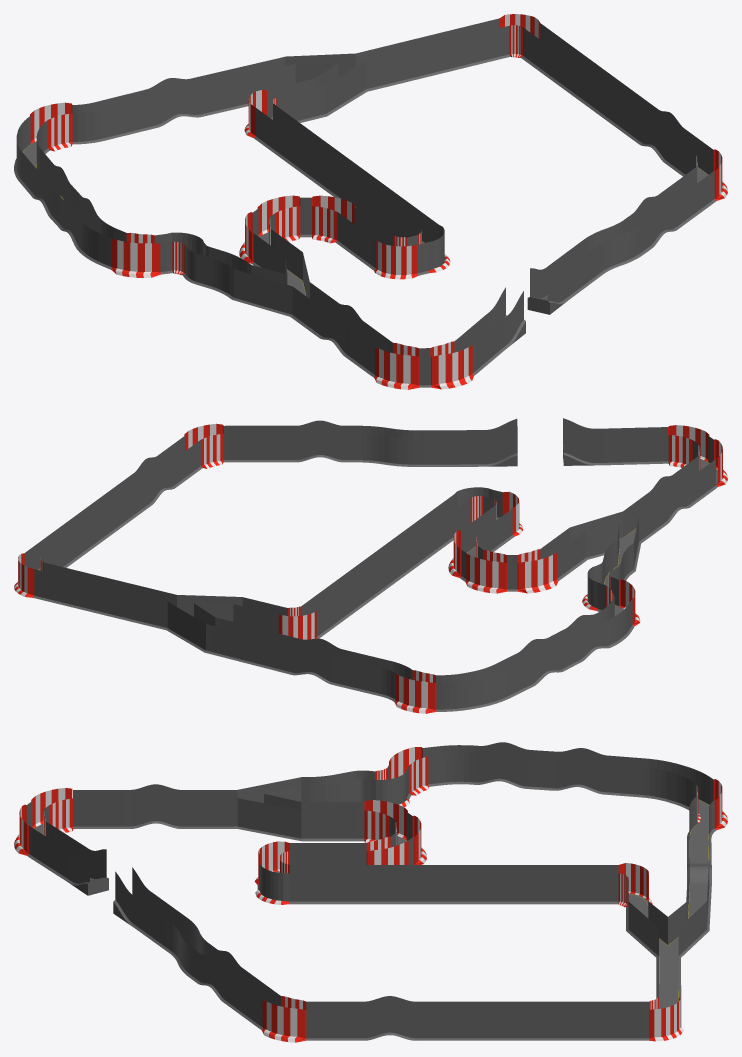
The model's file is Track 3.fbx.
3 renders of one model, top to bottom at view 1: azimuth 30°, elevation 25°; view 2: azimuth 150°, elevation 25°; view 3: azimuth 270°, elevation 25°, orthographic. The views are drawn at different scales.
Parts seen in each view (by area): view 1: Track 3 Barriers, Track 3; view 2: Track 3 Barriers, Track 3; view 3: Track 3 Barriers, Track 3.
Boxes of the visible parts, left/top/right/bottom form: Track 3 Barriers: left=16, top=14, right=722, bottom=385; Track 3: left=14, top=53, right=727, bottom=389; Track 3 Barriers: left=18, top=418, right=722, bottom=709; Track 3: left=14, top=444, right=727, bottom=713; Track 3 Barriers: left=19, top=742, right=722, bottom=1038; Track 3: left=14, top=778, right=727, bottom=1042.
Size of the model in its own units: 26452 by 1941 by 29744.
